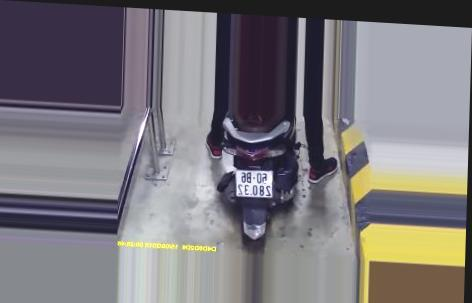License_Plate: (234, 165, 277, 200)
